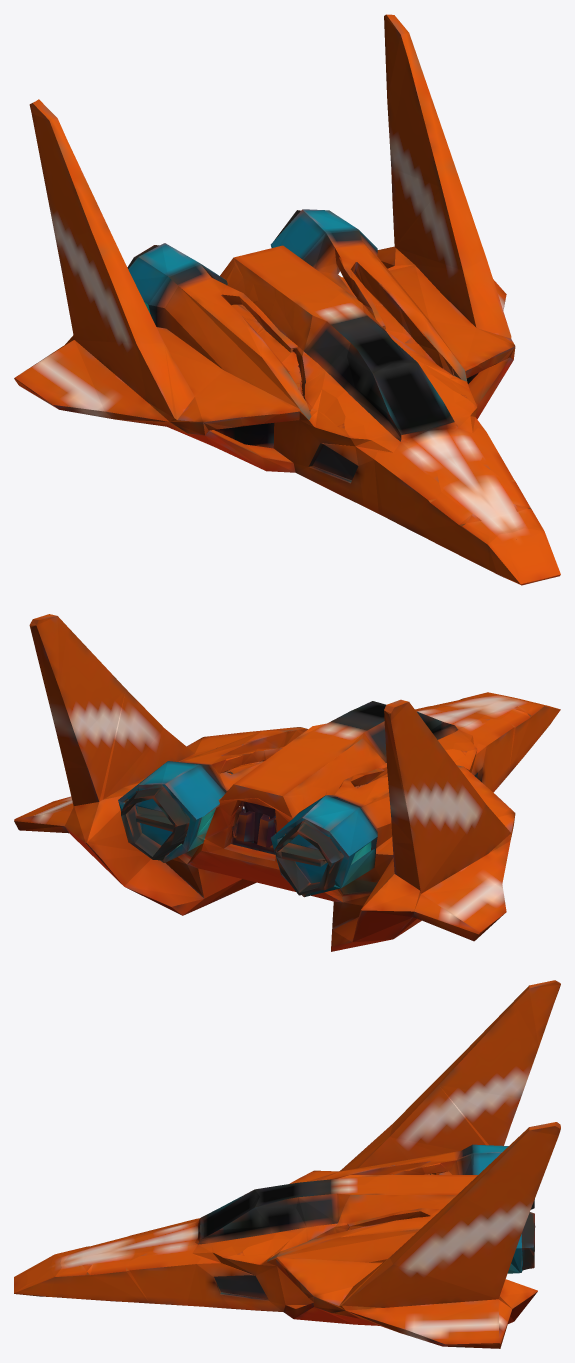
3 views of the same model, one above another, from view 1: azimuth 30°, elevation 25°; view 2: azimuth 150°, elevation 25°; view 3: azimuth 270°, elevation 25° (orthographic). The views are drawn at different scales.
Visible parts, largest first — view 1: world; view 2: world; view 3: world.
Part boxes in pixels (x1=…): world: x1=14, y1=14, x2=560, y2=585; world: x1=14, y1=614, x2=560, y2=951; world: x1=14, y1=980, x2=560, y2=1348.
Size of the model in its own units: 0.8148 by 0.5081 by 1.
Materials: 1 (1 with a texture image).
